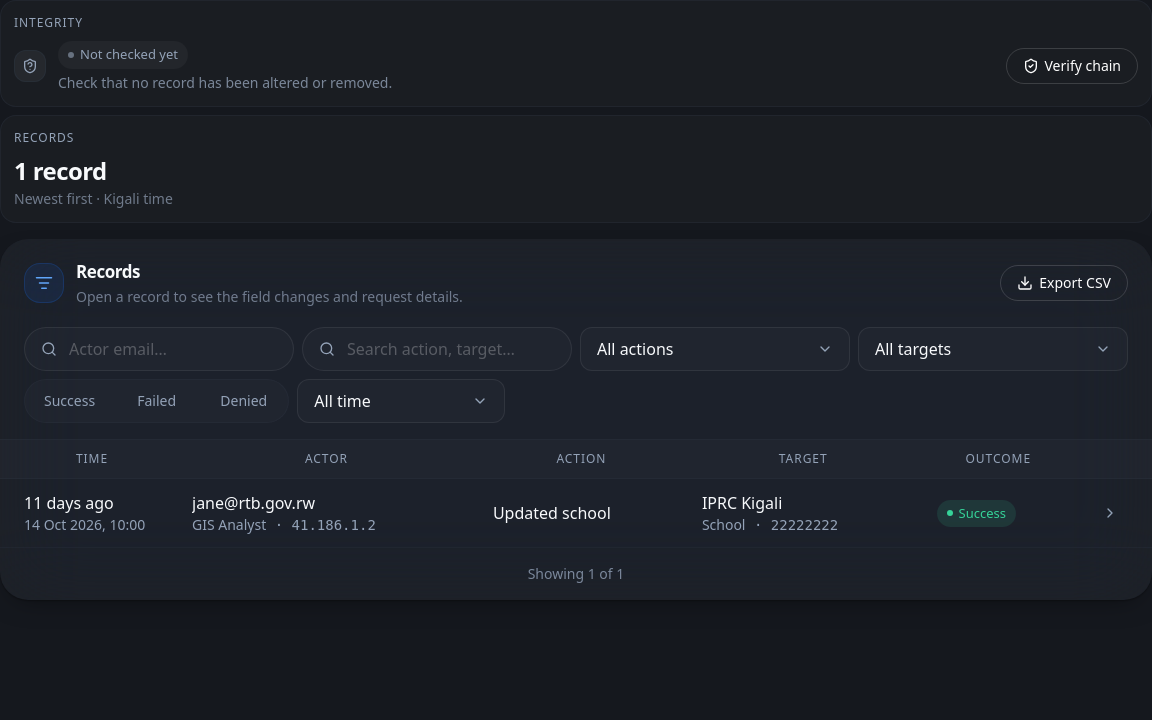
Test: AuditTrailTab › verifies the chain
What coordinates should you click on to do the following:
click the button "Verify chain"
I would click on:
 (1072, 66)
Its box is [1006,48,1138,84].
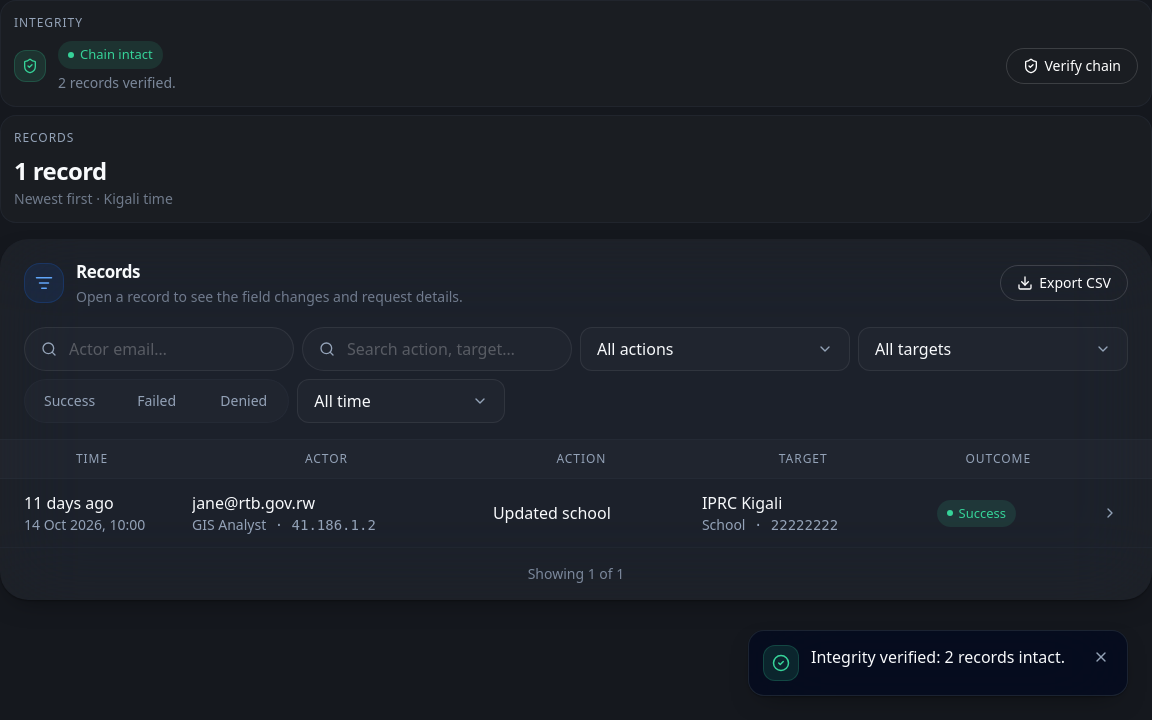
Expected: the text "Chain intact" is shown, [80,45,153,65]
